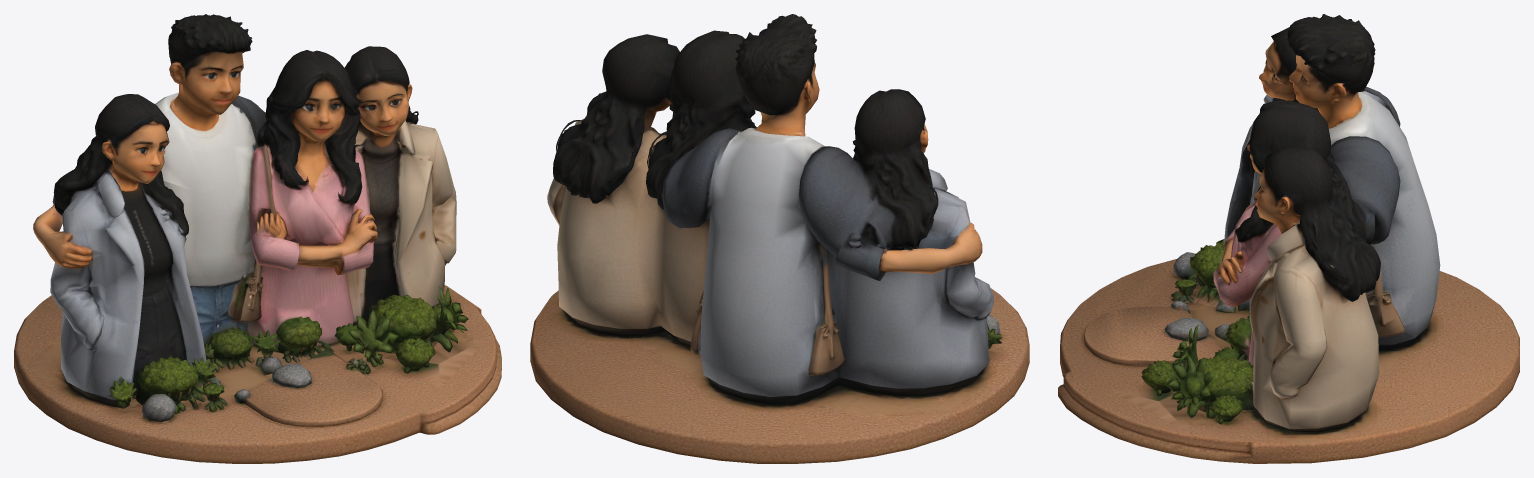
The model's file is family-dolls.optimized.glb.
3 views of the same model, side by side, from view 1: azimuth 30°, elevation 25°; view 2: azimuth 150°, elevation 25°; view 3: azimuth 270°, elevation 25° (orthographic). The views are drawn at different scales.
Visible parts, largest first — view 1: tripo_node_c462f9b9-831c-4918-a8f7-3a7298a23372; view 2: tripo_node_c462f9b9-831c-4918-a8f7-3a7298a23372; view 3: tripo_node_c462f9b9-831c-4918-a8f7-3a7298a23372.
Boxes of the visible parts, bbox=[...] form: tripo_node_c462f9b9-831c-4918-a8f7-3a7298a23372: bbox=[14, 14, 501, 463]; tripo_node_c462f9b9-831c-4918-a8f7-3a7298a23372: bbox=[530, 14, 1029, 463]; tripo_node_c462f9b9-831c-4918-a8f7-3a7298a23372: bbox=[1058, 14, 1519, 463].
Bounding box in the file's own units: 0.998 × 0.7755 × 0.9747.
Materials: 1 (1 with a texture image).
